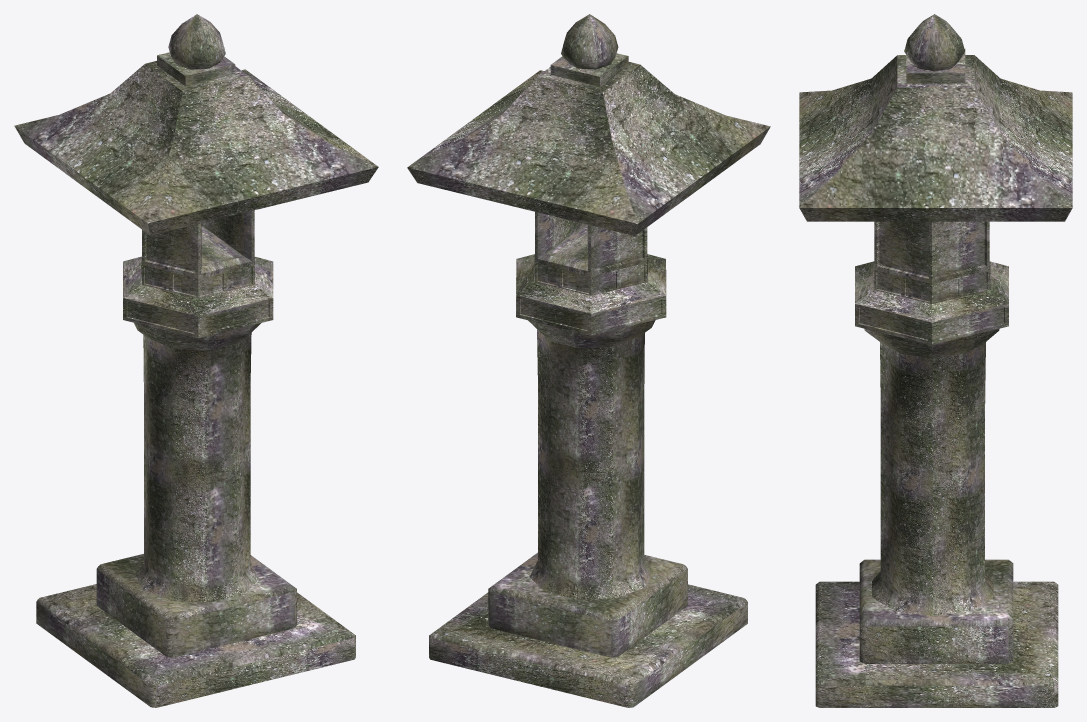
Rendered from jinjya_tourou.fbx.
3 renders of one model, left to right at view 1: azimuth 30°, elevation 25°; view 2: azimuth 150°, elevation 25°; view 3: azimuth 270°, elevation 25°, orthographic. The views are drawn at different scales.
Visible parts, largest first — view 1: tourou; view 2: tourou; view 3: tourou.
Boxes of the visible parts, x1,y1,x2,y2 form: tourou: [14, 14, 378, 707]; tourou: [407, 14, 770, 707]; tourou: [799, 14, 1072, 707].
Size of the model in its own units: 77.74 by 202 by 77.74.
